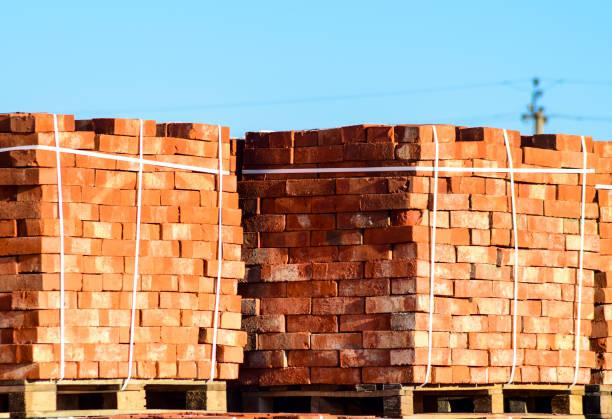Bricks: (12, 326, 122, 346), (364, 295, 475, 314), (363, 260, 473, 279), (0, 238, 104, 257), (394, 141, 487, 160), (1, 167, 96, 185), (364, 225, 451, 243), (6, 111, 73, 134), (510, 163, 579, 185), (18, 254, 86, 275), (7, 289, 78, 309), (128, 257, 201, 276), (363, 330, 449, 346), (102, 206, 179, 223), (391, 277, 456, 297), (361, 192, 432, 210), (11, 184, 81, 202), (390, 347, 451, 367), (503, 251, 579, 267), (7, 149, 74, 167), (384, 176, 451, 194), (168, 122, 231, 141), (155, 155, 228, 171), (393, 243, 457, 261), (1, 201, 58, 221), (63, 312, 137, 327), (363, 365, 432, 381), (389, 312, 450, 330), (105, 241, 177, 256), (387, 210, 447, 228), (174, 139, 230, 158), (91, 118, 156, 134), (455, 281, 512, 299), (25, 219, 84, 236), (395, 125, 457, 141), (521, 316, 570, 336), (516, 266, 574, 282), (309, 365, 357, 384), (287, 349, 340, 366), (315, 260, 365, 278), (257, 332, 313, 348), (286, 315, 338, 332), (244, 370, 306, 384), (262, 261, 313, 278), (38, 134, 95, 149), (459, 131, 522, 144), (532, 137, 594, 150), (161, 225, 218, 239), (341, 349, 390, 365), (261, 196, 307, 213), (286, 180, 338, 195), (545, 201, 597, 216), (449, 315, 490, 334), (309, 195, 360, 210), (459, 246, 497, 266), (245, 246, 289, 263), (337, 244, 390, 258), (159, 289, 196, 309), (241, 282, 287, 298), (484, 144, 522, 163), (83, 188, 134, 202), (309, 334, 360, 348), (20, 344, 55, 364), (175, 172, 216, 189), (86, 345, 132, 360), (245, 149, 291, 164), (295, 145, 341, 160), (289, 281, 335, 296), (248, 131, 291, 147), (286, 214, 335, 228), (260, 231, 309, 245), (513, 217, 562, 231), (119, 290, 157, 308), (101, 137, 141, 154), (338, 281, 390, 294), (312, 299, 364, 312), (205, 330, 247, 346), (342, 143, 390, 157), (335, 178, 383, 192), (516, 283, 558, 299), (137, 344, 176, 361), (335, 213, 386, 226), (260, 299, 311, 312), (561, 348, 600, 365), (122, 326, 163, 342), (339, 315, 389, 328), (24, 309, 60, 327), (83, 221, 121, 238), (452, 177, 486, 196), (97, 170, 137, 186), (79, 293, 119, 309), (243, 315, 283, 331), (289, 247, 338, 260), (475, 299, 510, 317), (181, 241, 218, 258), (537, 335, 585, 348), (473, 264, 512, 280), (124, 224, 160, 241), (183, 310, 219, 327), (311, 231, 362, 243), (451, 212, 489, 228), (198, 295, 241, 309), (469, 333, 509, 348), (523, 148, 558, 165), (471, 196, 508, 212), (241, 182, 286, 195), (244, 216, 283, 231), (518, 183, 557, 198), (565, 234, 599, 251), (182, 206, 218, 222), (163, 328, 199, 344), (249, 352, 285, 368), (60, 204, 98, 219), (558, 185, 596, 200), (144, 310, 181, 325), (85, 259, 124, 273), (142, 137, 174, 154), (516, 230, 548, 247), (434, 195, 468, 211), (557, 152, 591, 168), (118, 155, 154, 170), (206, 261, 241, 276), (451, 351, 491, 364), (76, 154, 115, 167), (179, 277, 215, 291), (142, 171, 173, 187), (564, 284, 595, 300), (474, 161, 507, 176), (178, 347, 213, 361), (163, 192, 200, 205), (509, 199, 546, 212), (436, 163, 473, 176), (491, 352, 522, 367), (2, 135, 34, 149), (491, 316, 519, 332), (143, 276, 177, 289), (529, 349, 558, 364), (486, 367, 512, 383), (544, 302, 573, 316), (511, 302, 539, 316), (222, 347, 245, 364), (364, 126, 391, 140), (219, 226, 241, 243), (583, 171, 611, 184), (100, 361, 119, 380), (137, 189, 161, 204), (451, 228, 472, 245), (2, 313, 22, 330), (215, 176, 236, 192), (197, 363, 218, 379), (57, 347, 85, 359), (222, 310, 241, 327), (488, 177, 507, 194), (220, 209, 241, 224), (136, 362, 157, 377), (590, 157, 611, 172), (217, 280, 239, 294), (83, 275, 105, 289), (240, 297, 258, 314), (594, 140, 612, 157), (316, 129, 341, 141), (341, 127, 364, 140), (243, 264, 264, 278), (453, 366, 470, 383), (158, 361, 176, 377), (582, 251, 600, 267), (471, 228, 489, 244), (222, 245, 241, 260), (515, 335, 535, 349), (296, 133, 317, 146), (493, 227, 509, 244), (199, 192, 217, 207), (122, 274, 140, 289), (523, 364, 538, 382), (448, 334, 466, 349), (104, 275, 120, 291), (2, 344, 18, 360), (577, 270, 593, 286), (470, 367, 487, 382), (548, 234, 565, 249), (433, 369, 451, 383), (493, 213, 511, 227), (220, 193, 239, 206), (219, 364, 238, 377), (80, 361, 95, 377), (576, 303, 592, 318), (243, 231, 257, 247), (244, 331, 255, 351), (241, 200, 259, 212), (4, 258, 18, 273), (597, 323, 611, 338), (121, 364, 137, 377), (2, 221, 16, 235), (541, 367, 556, 380), (558, 367, 573, 380), (584, 220, 597, 235), (597, 218, 610, 233), (599, 191, 612, 205), (598, 290, 612, 303), (564, 219, 579, 231), (574, 322, 590, 333), (595, 306, 612, 316), (600, 368, 612, 381), (601, 255, 612, 269), (597, 339, 612, 349), (600, 207, 612, 218), (602, 239, 612, 252), (600, 273, 610, 286), (512, 367, 520, 383), (577, 370, 588, 381), (600, 352, 612, 361), (509, 181, 516, 196)
